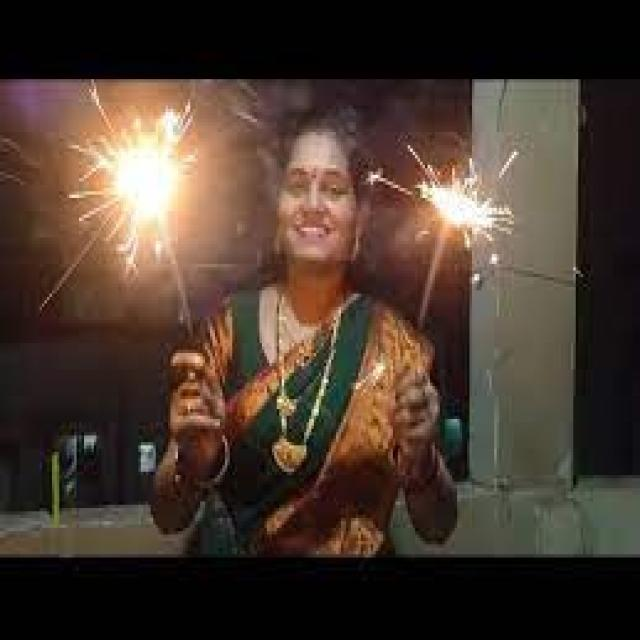fire: (67, 80, 201, 274), (368, 142, 520, 286)
